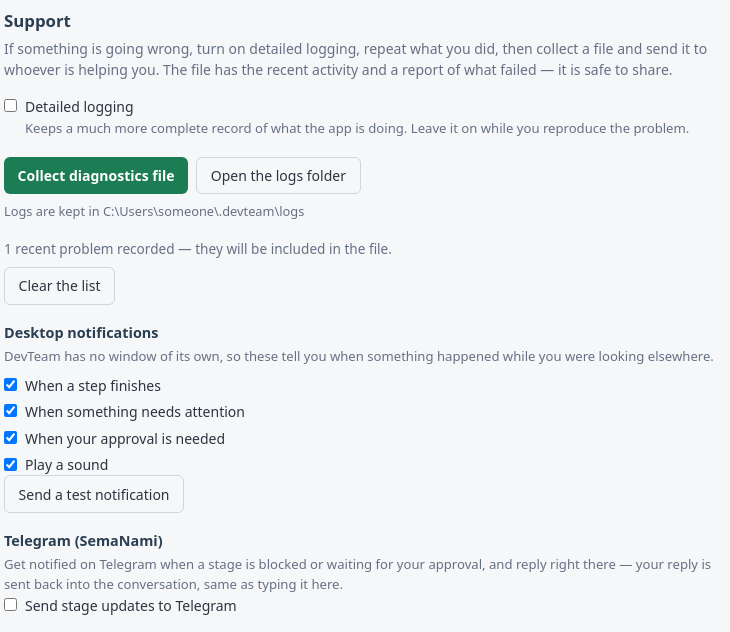
Test case: SupportView › shows how many problems were recorded, and can clear them
This screenshot has width=730, height=632.
Check: the text with test id "support-recorded" shows "1 recent problem", box top-left (4, 239), bottom-right (392, 258)
Click the button with test id "support-clear-btn". click: coordinates (60, 286)
box: top-left (4, 267), bottom-right (115, 305)
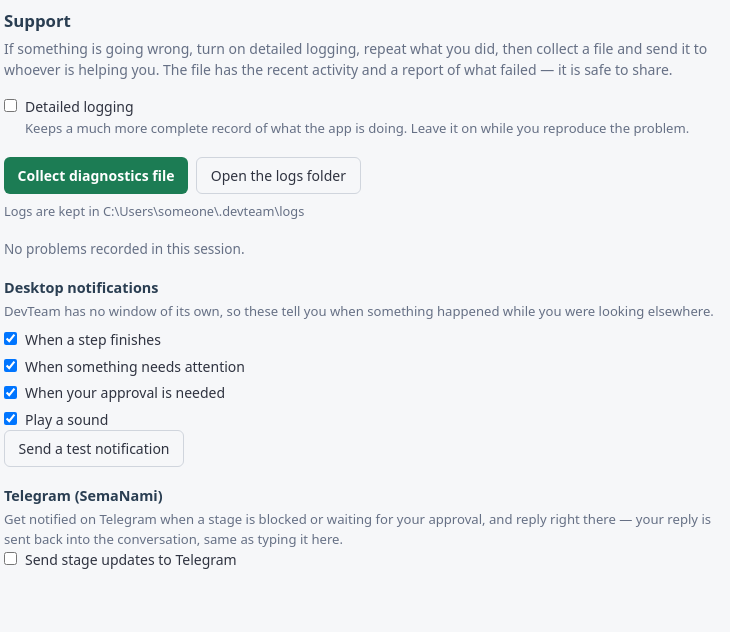
Check: the text with test id "support-recorded" shows "No problems recorded", box top-left (4, 239), bottom-right (245, 258)
Check: the button with test id "support-clear-btn" is gone
